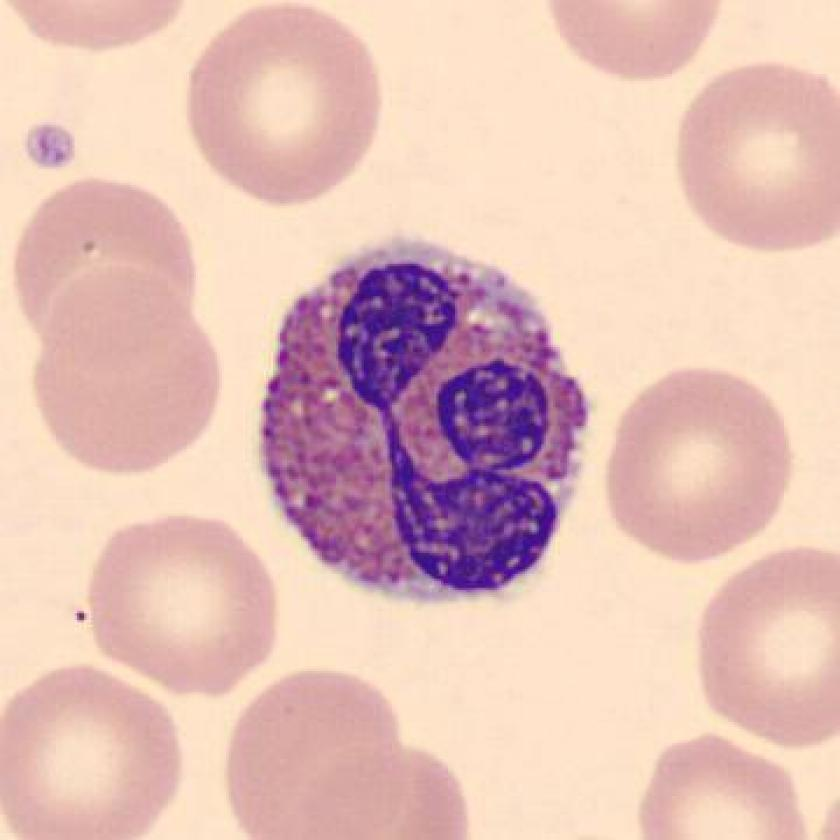eosinophil: (244, 228, 608, 619), (736, 436, 738, 438)
